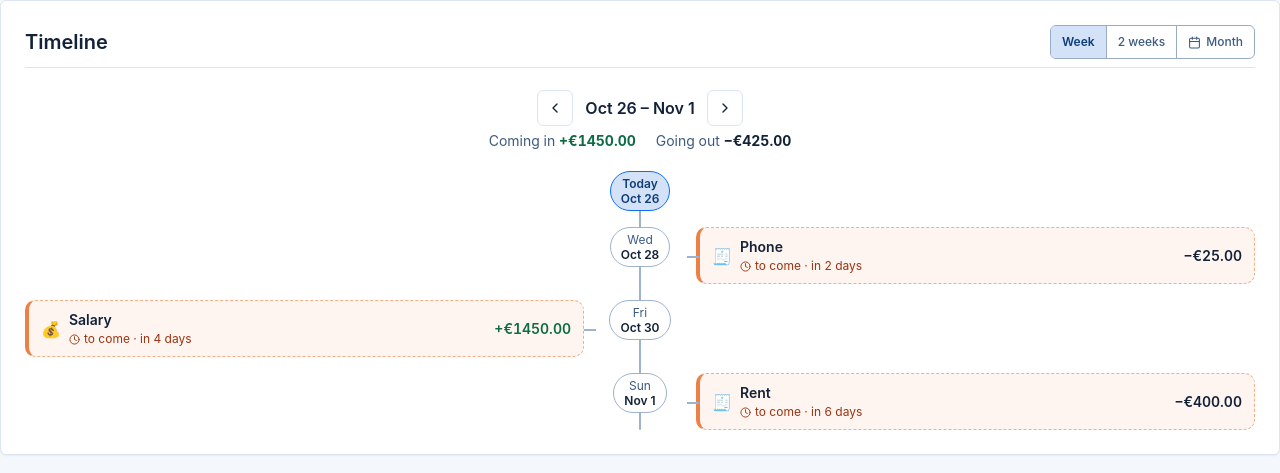
Test: money as a tree › goes no further than the sources reach, either way
This screenshot has width=1280, height=473.
Click the button "Month" at coordinates (1215, 42), box [1176,26,1254,58]
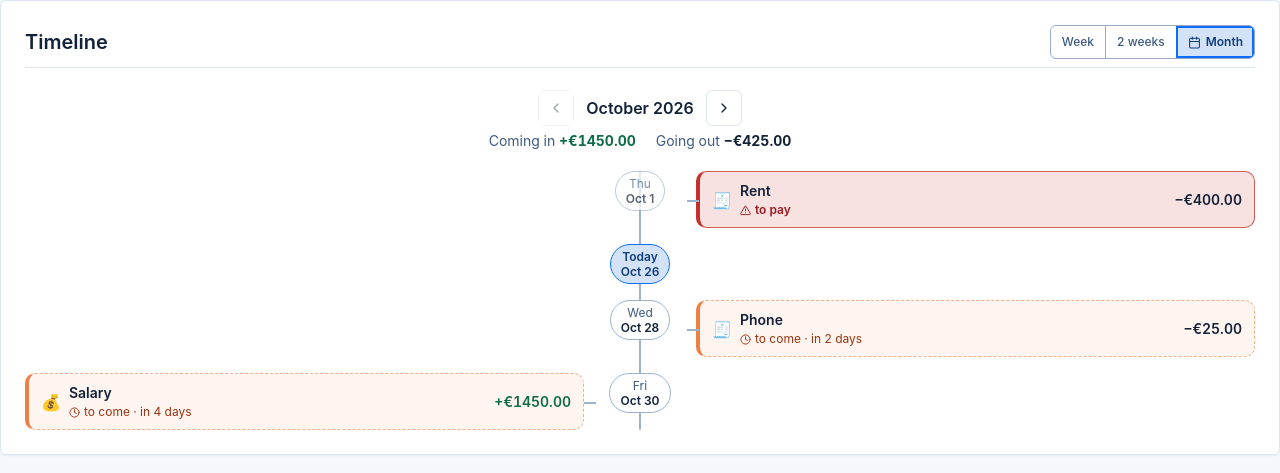
Check: the button named "Previous period" is disabled, box [538,90,574,126]
Click the button named "Next period" at coordinates (724, 108), box [706,90,742,126]
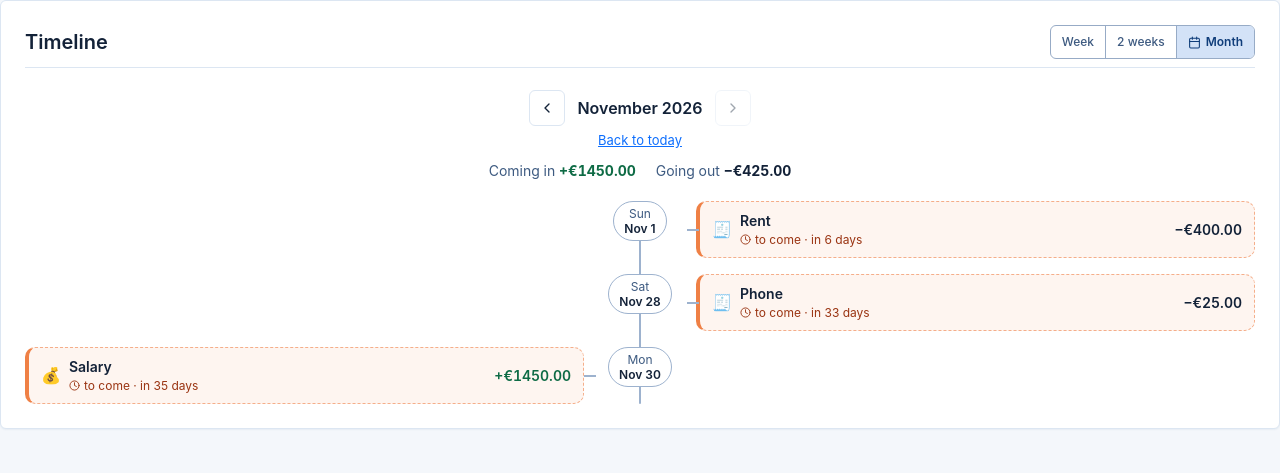
Check: the text "November 2026" is shown, box [577,96,702,120]
Check: the button named "Next period" is disabled, box [714,90,750,126]
